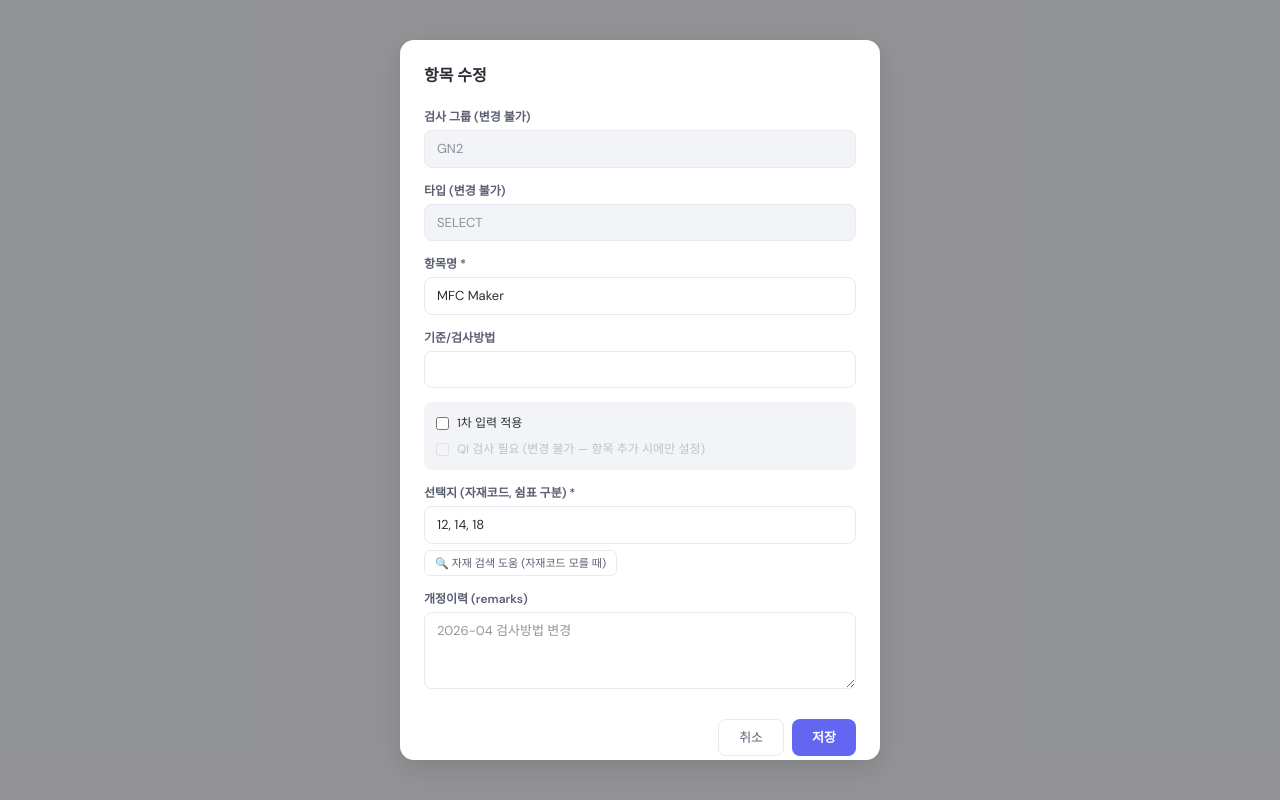
Test: ChecklistEditModal — 방향 A 자재코드 input 영역 (HOTFIX-SPRINT42 v1.43.1) › 자재코드 input 변경 + debounce → matched 자재 spec 표시 + [비활성] marker
The width and height of the screenshot is (1280, 800).
Step 1. Replace the text in the field with placeholder "1110006700, 1120094300, 1110298800" below "선택지 (자재코드, 쉼표 구분) *" with "1110006700, 1120094300, 1110298800" → (640, 525), box [424, 506, 856, 544]
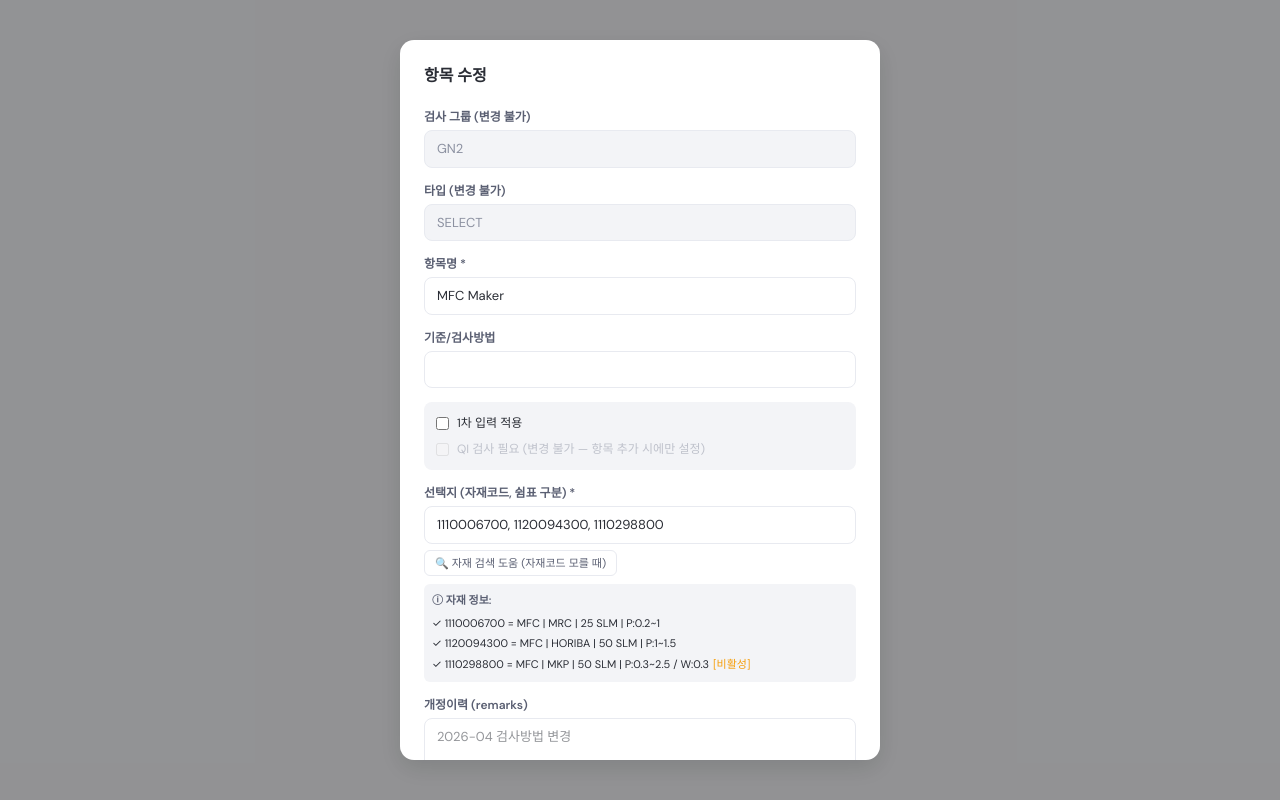
Expected: the text "✓ 1110006700 = MFC | MRC | 25 SLM | P:0.2~1" is shown, [432, 616, 660, 630]
Expected: the text "✓ 1120094300 = MFC | HORIBA | 50 SLM | P:1~1.5" is shown, [432, 636, 676, 650]
Expected: the text "[비활성]" is shown, [713, 656, 750, 670]
